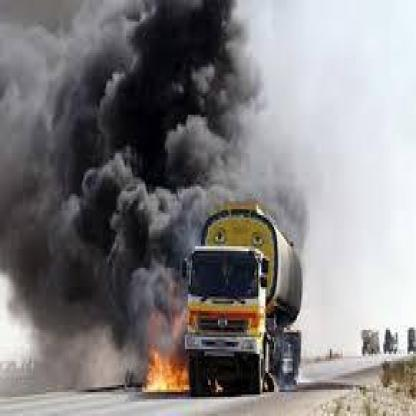fire: (146, 300, 190, 389)
smoke: (0, 0, 245, 287)
